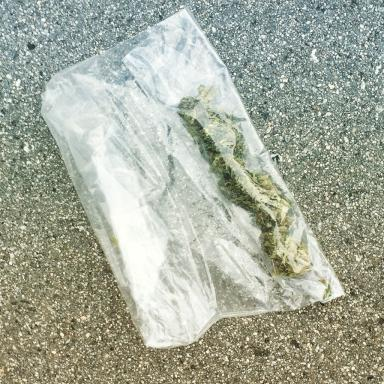plasticbag: (38, 6, 345, 349)
